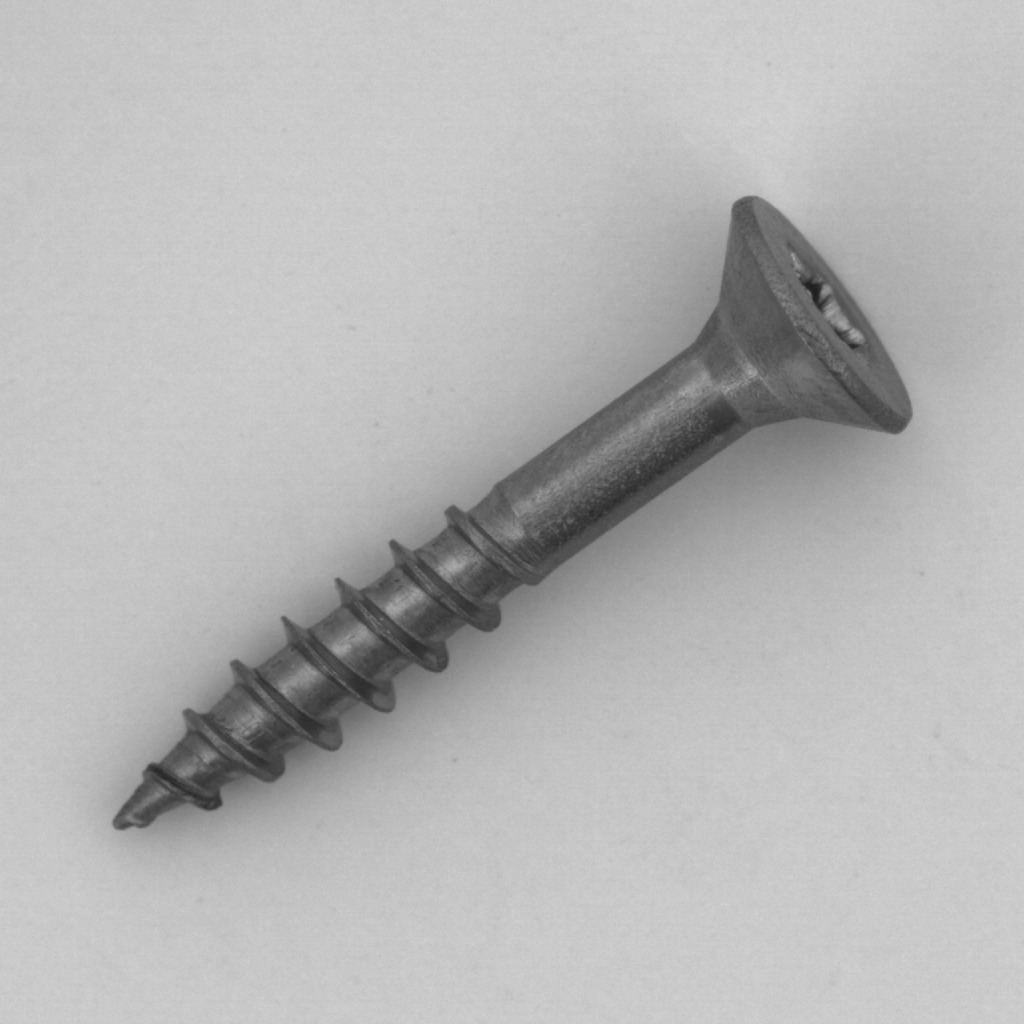good: (85, 173, 939, 858)
